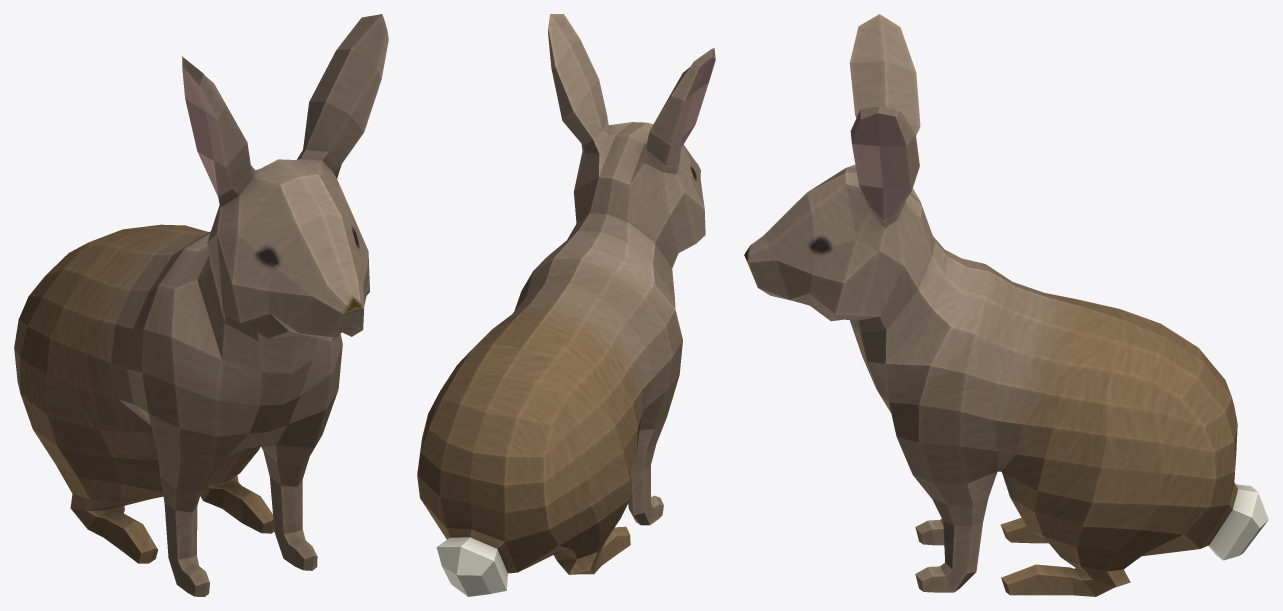
The model's file is rabbit.glb.
3 views of the same model, side by side, from view 1: azimuth 30°, elevation 25°; view 2: azimuth 150°, elevation 25°; view 3: azimuth 270°, elevation 25° (orthographic). The views are drawn at different scales.
Visible parts, largest first — view 1: rabbit; view 2: rabbit; view 3: rabbit.
Part boxes in pixels (x1,y1,x2,y2): rabbit: (14, 14, 388, 596); rabbit: (417, 14, 715, 596); rabbit: (744, 14, 1268, 596).
Bounding box in the file's own units: 0.1353 × 0.32 × 0.2992.
1 material, 1 textured.
